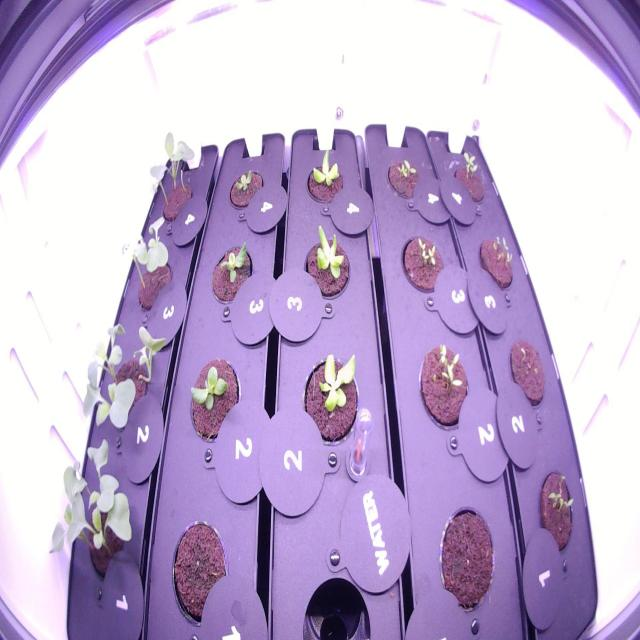germination: (409, 337, 476, 439), (534, 458, 580, 554), (395, 228, 452, 300), (505, 332, 550, 413), (383, 152, 432, 214), (446, 145, 490, 214), (475, 228, 517, 294)
pod: (164, 514, 237, 636), (434, 499, 501, 621)
young: (297, 339, 364, 449), (180, 352, 246, 452), (296, 220, 354, 308), (206, 235, 257, 315), (304, 144, 348, 210), (225, 162, 267, 220)
